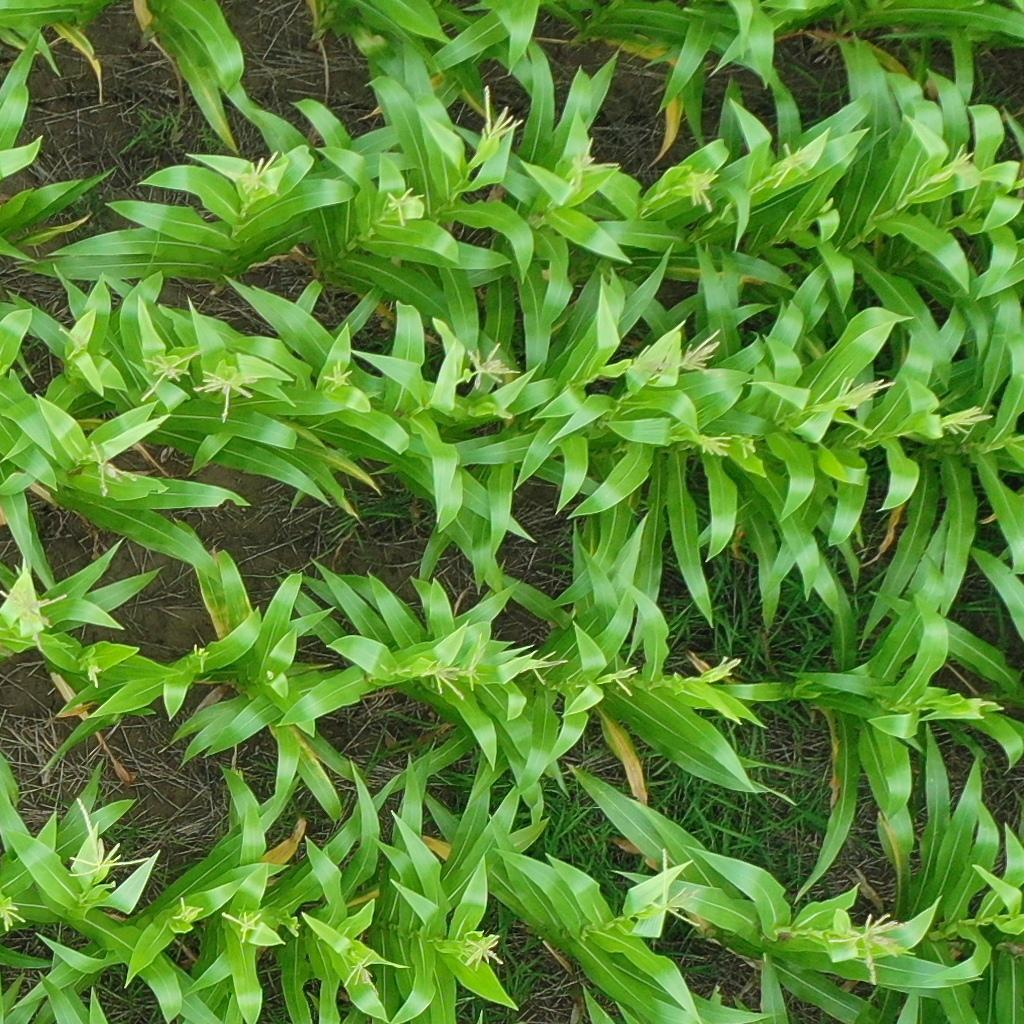Tassel: (59, 795, 151, 884), (635, 836, 704, 931), (832, 908, 906, 979), (1, 561, 68, 630), (192, 364, 267, 424), (76, 437, 138, 502), (569, 133, 622, 196), (463, 336, 521, 387), (480, 86, 526, 147), (135, 352, 192, 400), (679, 157, 723, 213), (833, 372, 895, 410), (238, 149, 284, 200), (770, 139, 811, 192), (524, 643, 570, 690), (940, 402, 997, 439), (684, 323, 723, 375), (340, 946, 384, 992), (457, 927, 504, 970), (694, 651, 740, 693), (384, 182, 425, 226), (421, 659, 466, 699), (218, 904, 266, 941), (466, 625, 491, 694), (689, 424, 735, 458), (944, 137, 976, 182), (609, 656, 641, 700), (320, 356, 356, 392), (59, 321, 92, 360), (169, 895, 207, 924), (1, 891, 25, 933), (84, 658, 105, 687), (192, 642, 210, 667)
